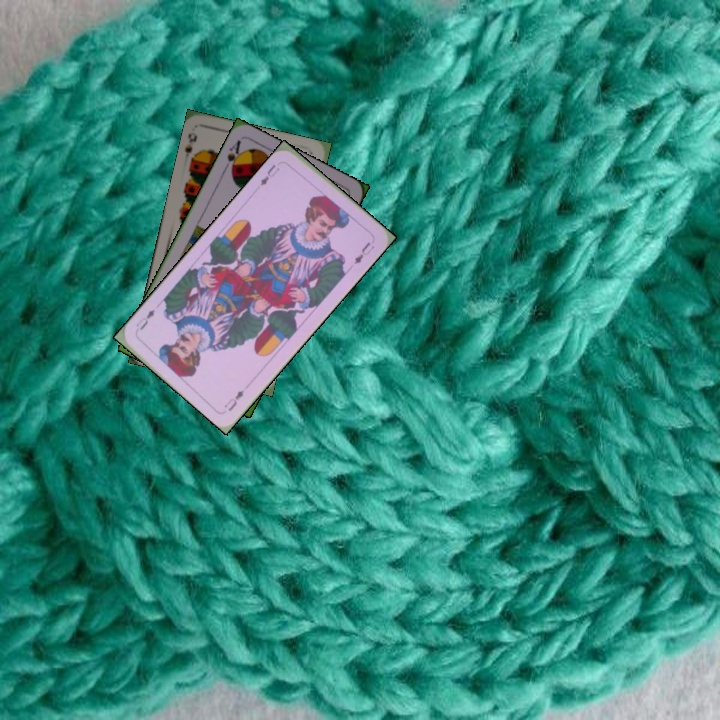EU: (220, 386, 247, 414), (256, 160, 282, 189)
S9: (181, 130, 200, 167)
SA: (219, 136, 246, 176)
